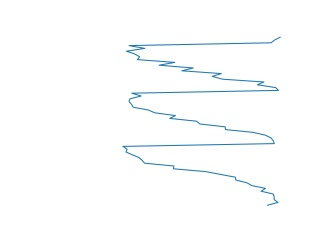distributaryMouthBar: (121, 36, 285, 207)
